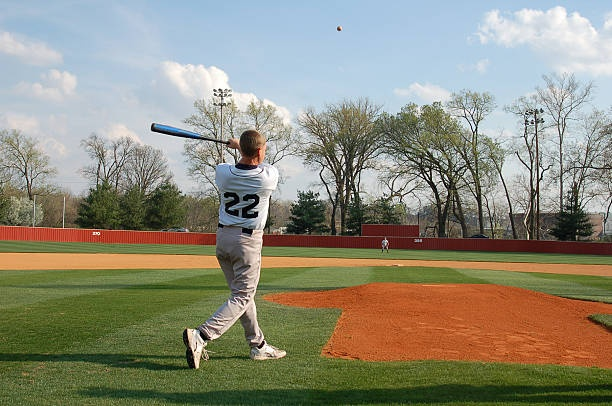bita: (148, 119, 248, 151)
